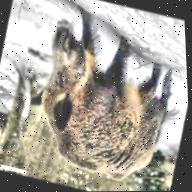boar: (11, 7, 192, 192)
